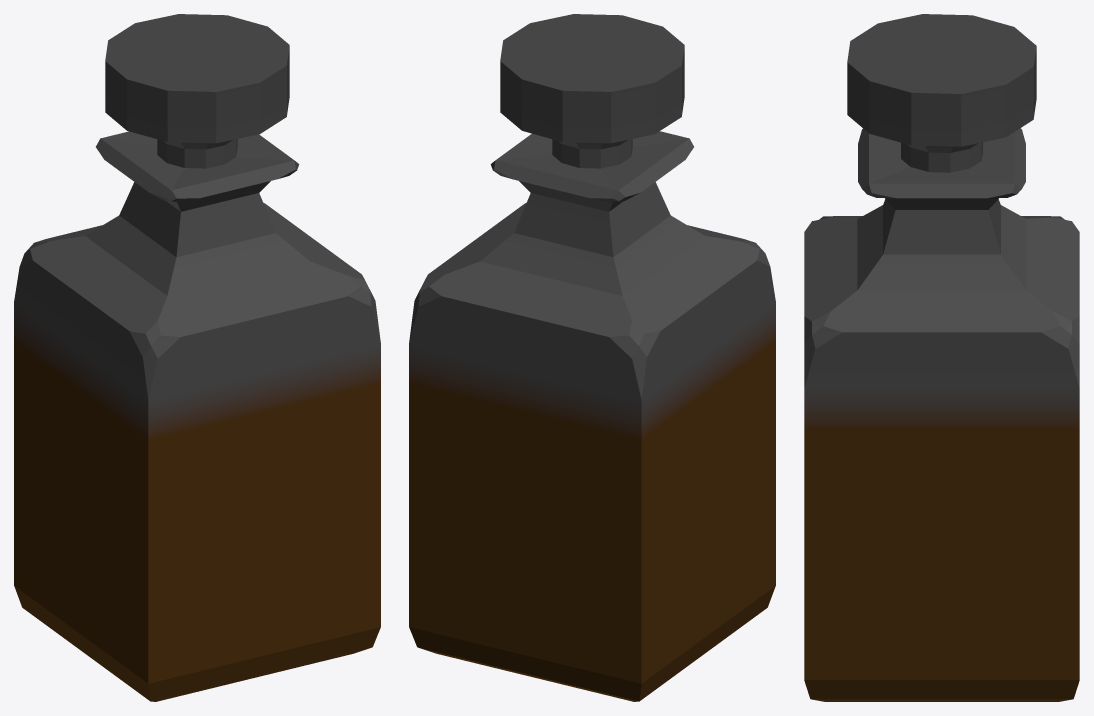
Rendered from decanter2.fbx.
3 renders of one model, left to right at view 1: azimuth 30°, elevation 25°; view 2: azimuth 150°, elevation 25°; view 3: azimuth 270°, elevation 25°, orthographic. The views are drawn at different scales.
Parts seen in each view (by area): view 1: decanter_baked; view 2: decanter_baked; view 3: decanter_baked.
Part boxes in pixels (<box>): decanter_baked: <box>14,14,380,701</box>; decanter_baked: <box>409,14,775,701</box>; decanter_baked: <box>804,14,1079,701</box>.
Bounding box in the file's own units: 14.72 × 35.31 × 14.72.
1 material, 1 textured.
